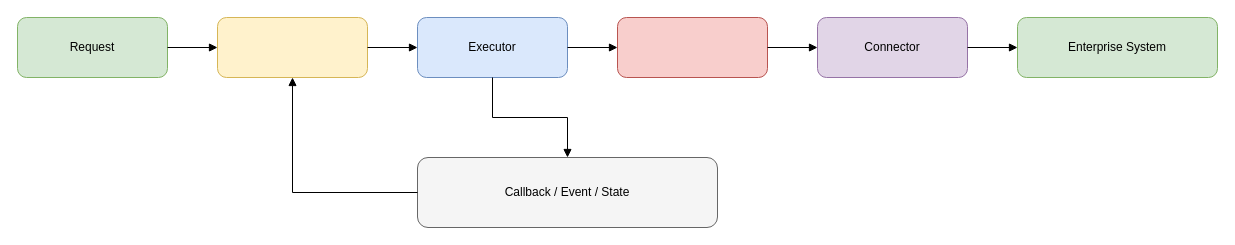
Some shapes in this 1235 by 245 pixel diagram are drawn without their labels. Here are the shapes that lost their labels. From the top down, the centre of each, then its label:
At point (292, 47): "Gateway".
At point (692, 47): "Tool".
